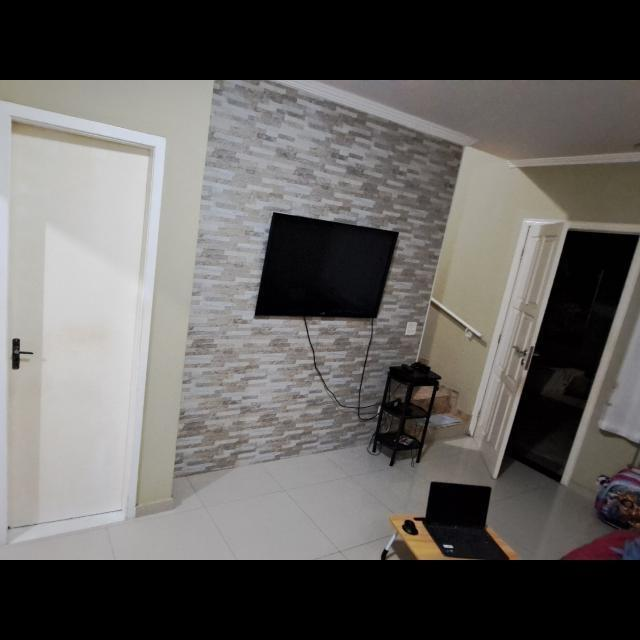door: (1, 100, 163, 542), (471, 206, 570, 482)
